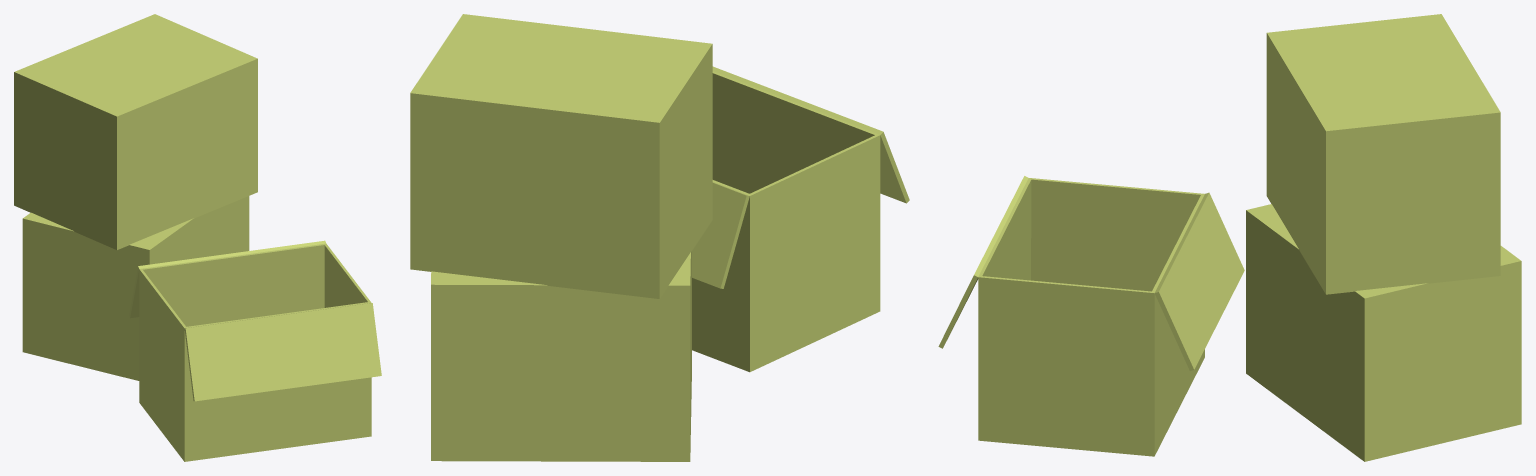
The model's file is boite.glb.
3 views of the same model, side by side, from view 1: azimuth 30°, elevation 25°; view 2: azimuth 150°, elevation 25°; view 3: azimuth 270°, elevation 25° (orthographic). The views are drawn at different scales.
Visible parts, largest first — view 1: Box004, Box003, Box002; view 2: Box004, Box002, Box003; view 3: Box003, Box004, Box002.
Boxes of the visible parts, bbox=[...] form: Box004: bbox=[14, 14, 257, 249]; Box003: bbox=[129, 240, 381, 461]; Box002: bbox=[22, 196, 249, 380]; Box004: bbox=[410, 14, 712, 298]; Box002: bbox=[431, 251, 691, 461]; Box003: bbox=[692, 66, 909, 372]; Box003: bbox=[938, 176, 1244, 456]; Box004: bbox=[1266, 14, 1500, 294]; Box002: bbox=[1246, 204, 1521, 461].
Bounding box in the file's own units: 0.4959 × 0.599 × 0.9699.
